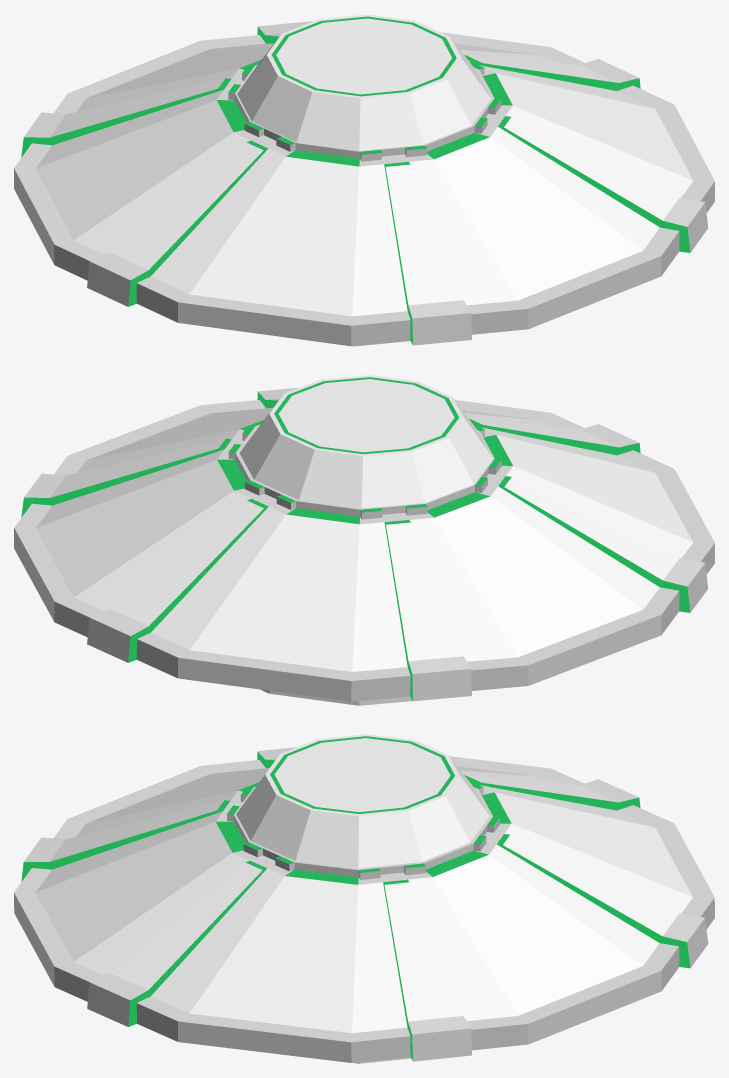
The model's file is ufo.glb.
3 views of the same model, one above another, from view 1: azimuth 30°, elevation 25°; view 2: azimuth 150°, elevation 25°; view 3: azimuth 270°, elevation 25° (orthographic).
Visible parts, largest first — view 1: ufo; view 2: ufo; view 3: ufo.
Boxes of the visible parts, box(x1,y1,x2,y2) form: ufo: box(14, 14, 714, 346); ufo: box(14, 375, 714, 705); ufo: box(14, 734, 714, 1063).
Size of the model in its own units: 2 by 0.7196 by 2.
